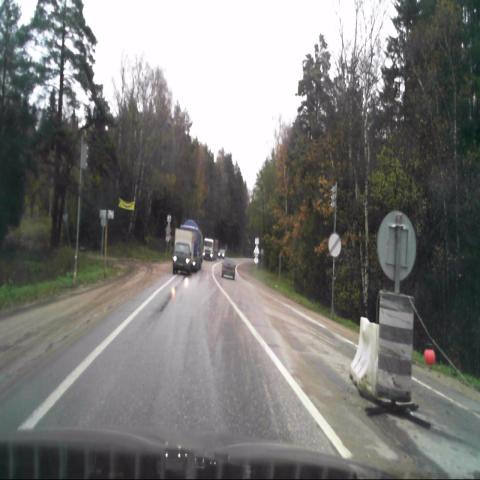3_31: (328, 232, 342, 258)
